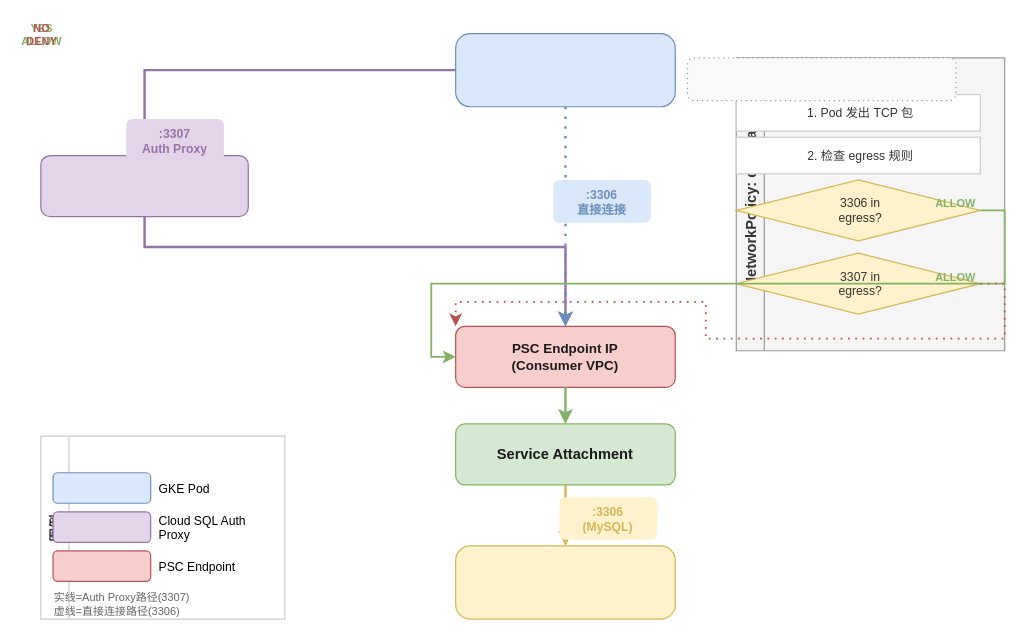
Some shapes in this 1036 by 641 pixel diagram are drawn without their labels. The shapes that lost their labels are listed below. From the top down, each one's centre as x and y in pixels, then its label:
At (564,69): "GKE Pod (caep-core namespace)".
At (821,79): "GKE 节点 SNAT: Pod IP (100.64.x.x) → Node IP (192.168.64.x)".
At (144,185): "Cloud SQL Auth Proxy (Sidecar / Pod内)".
At (564,582): "Cloud SQL (Producer)".
